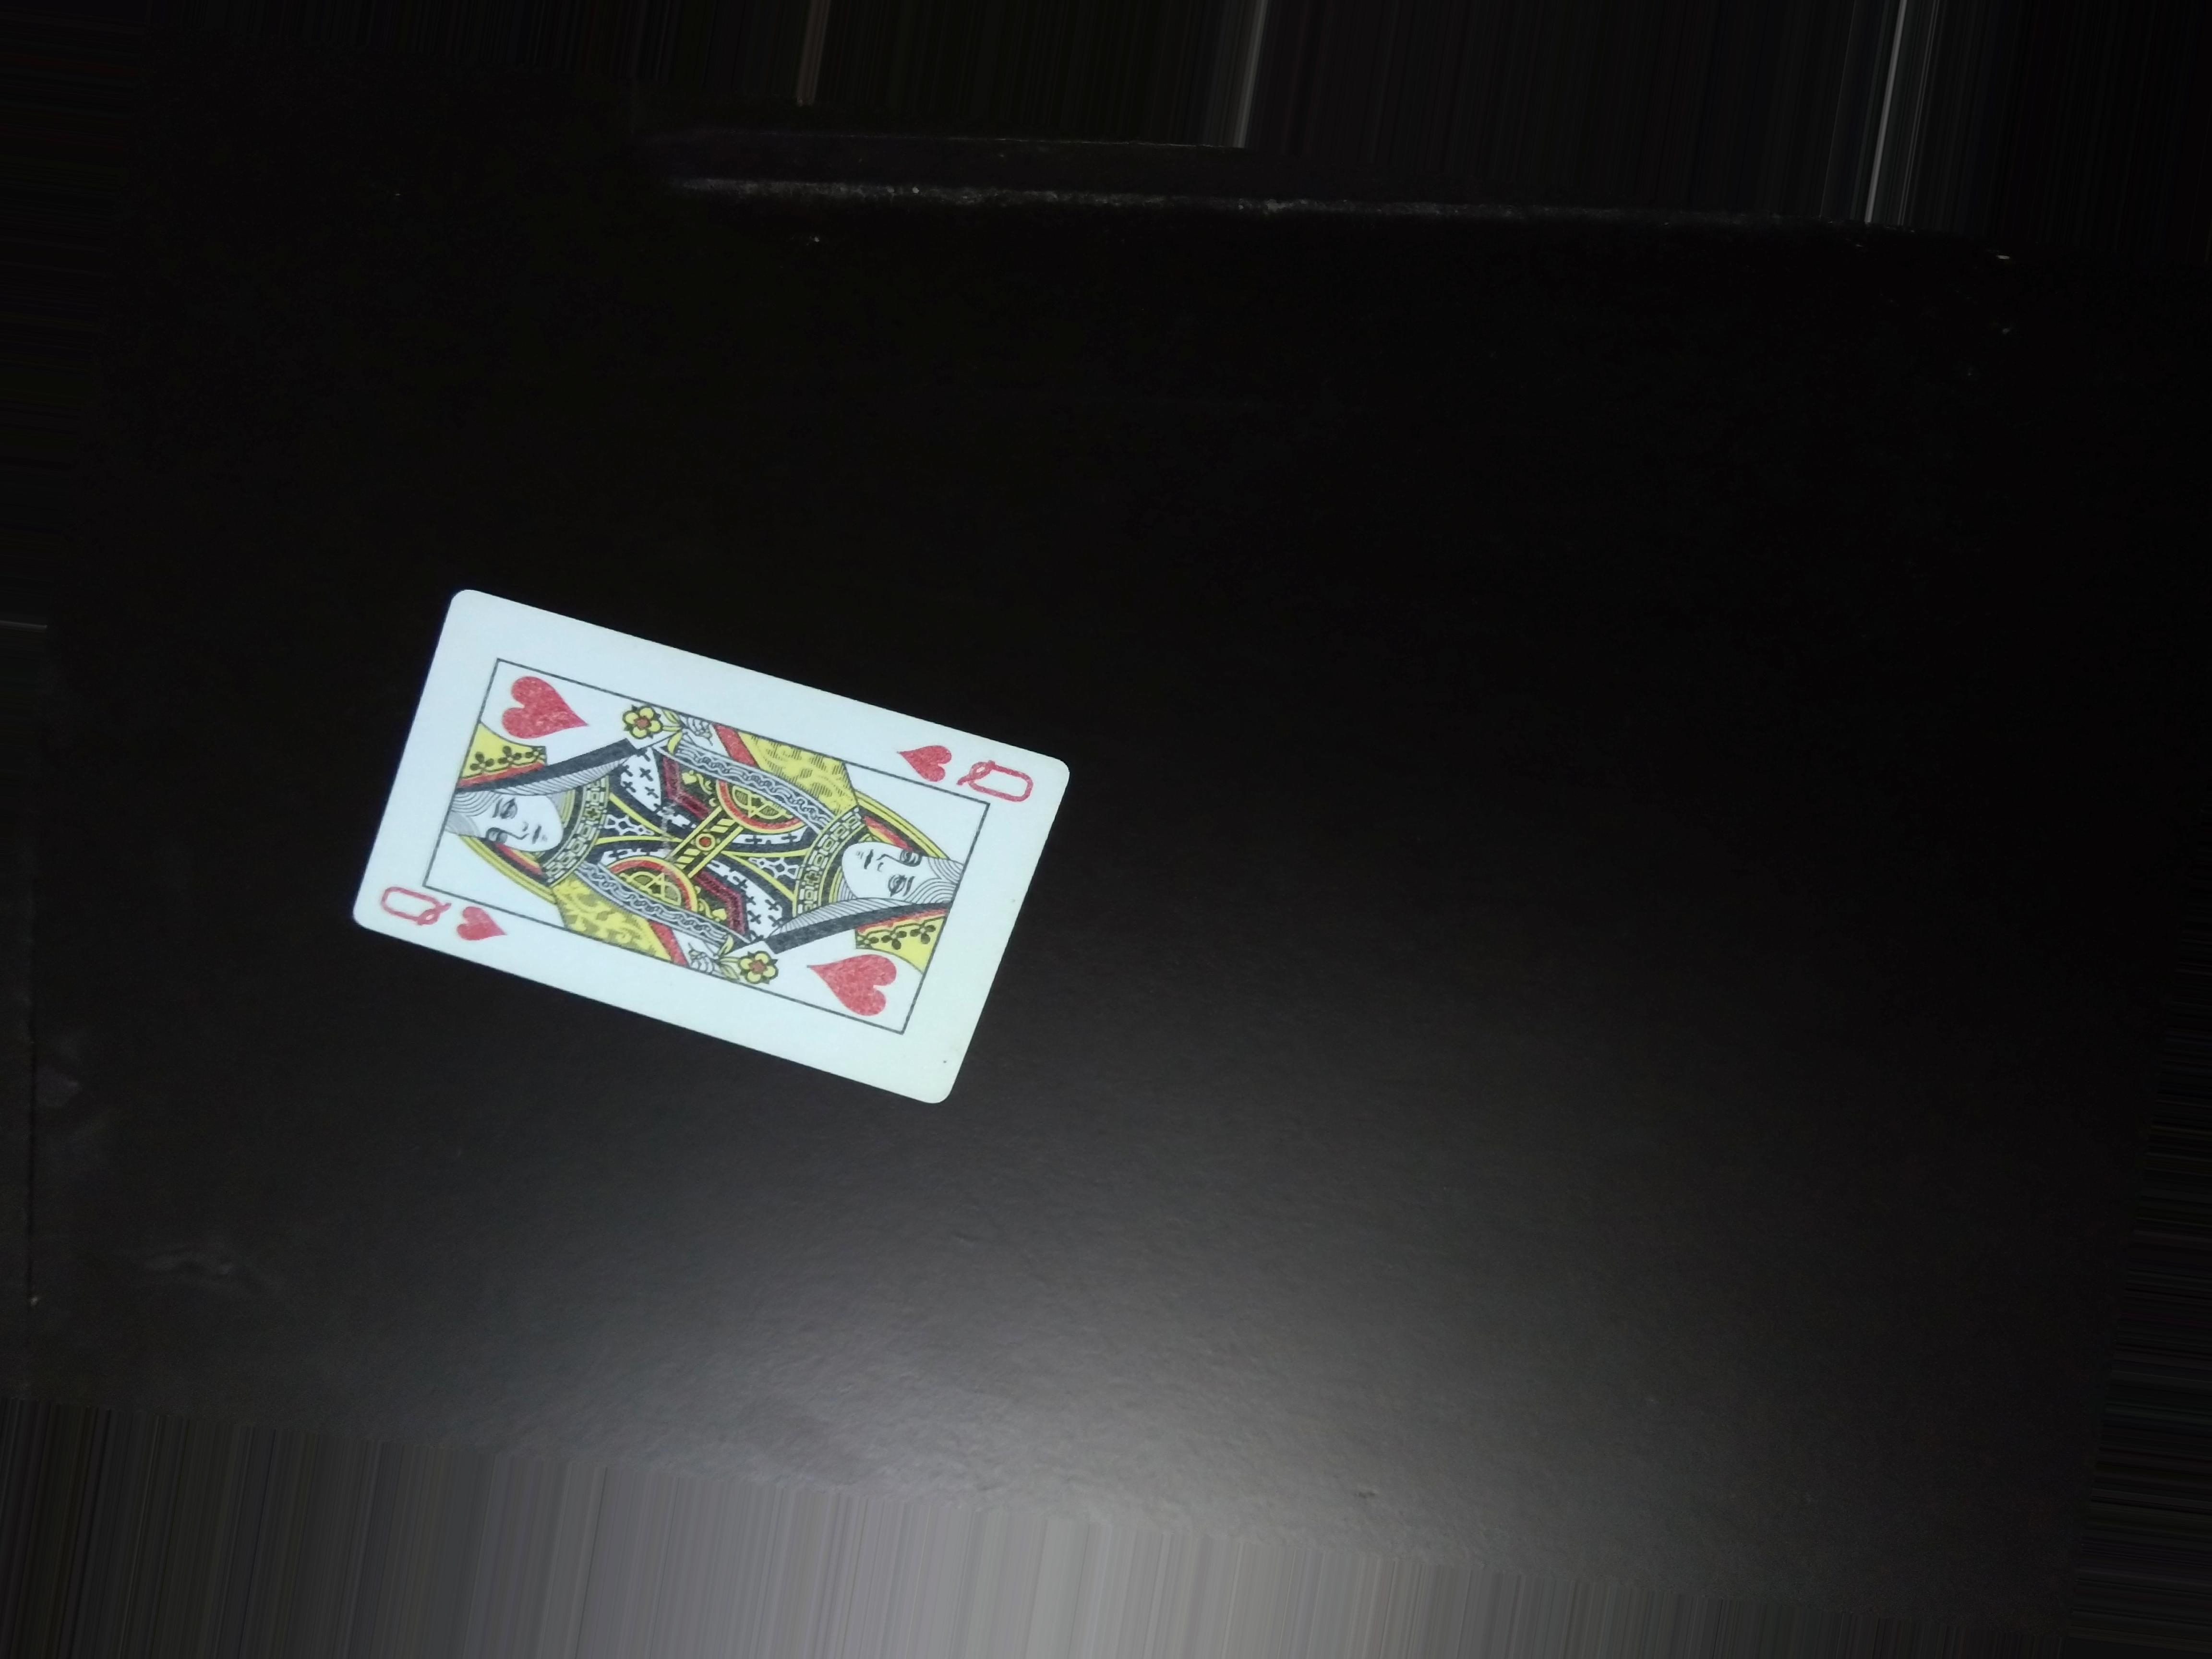QH: (366, 873, 509, 948)
